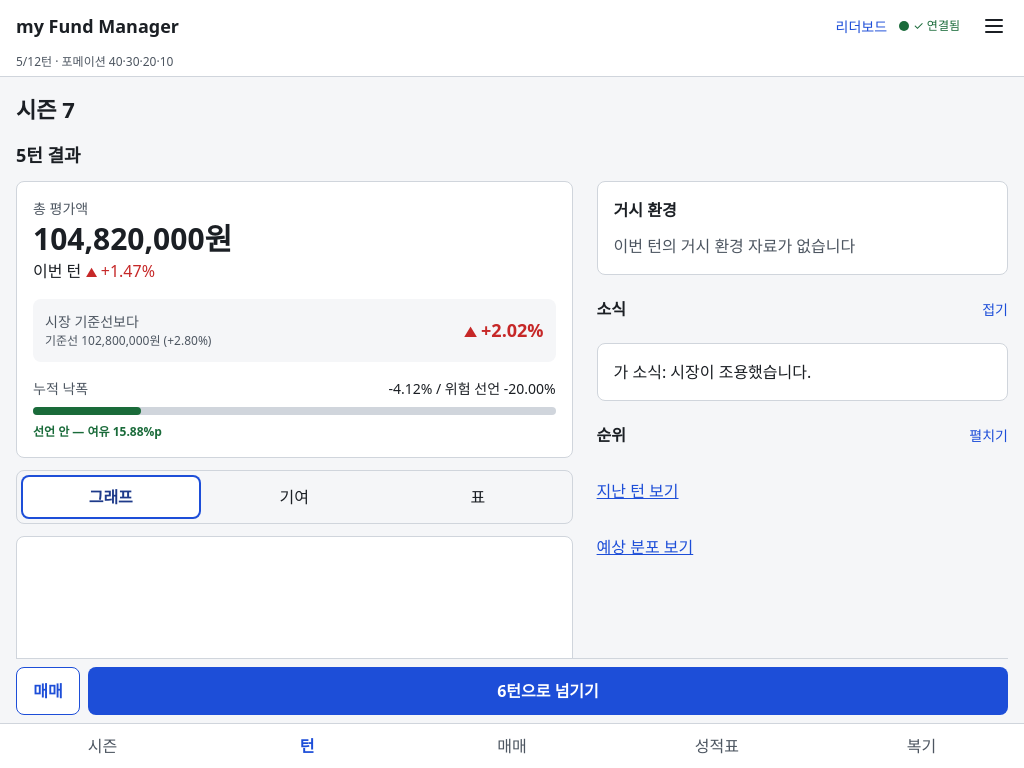
Test: ranking on the now page › lists the current turn board after the feed and requests only that turn
Click the button "순위 펼치기": (989, 435) [597,413,1008,457]
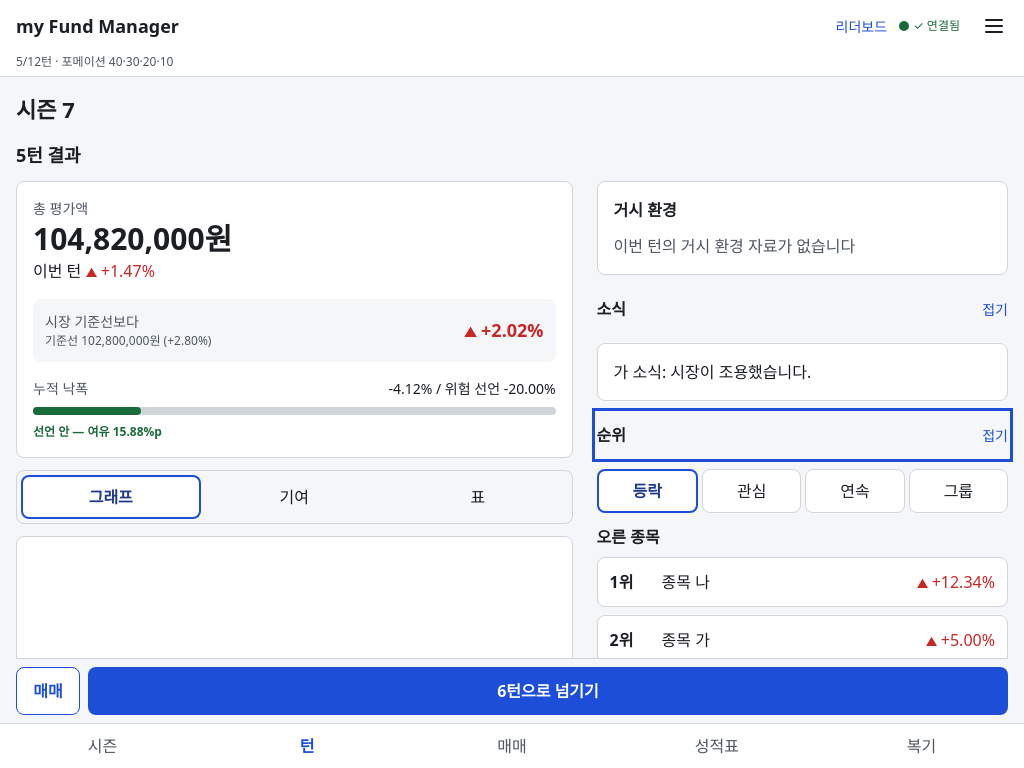
Expected: the text "종목 나" is shown, [662,571,710,593]
